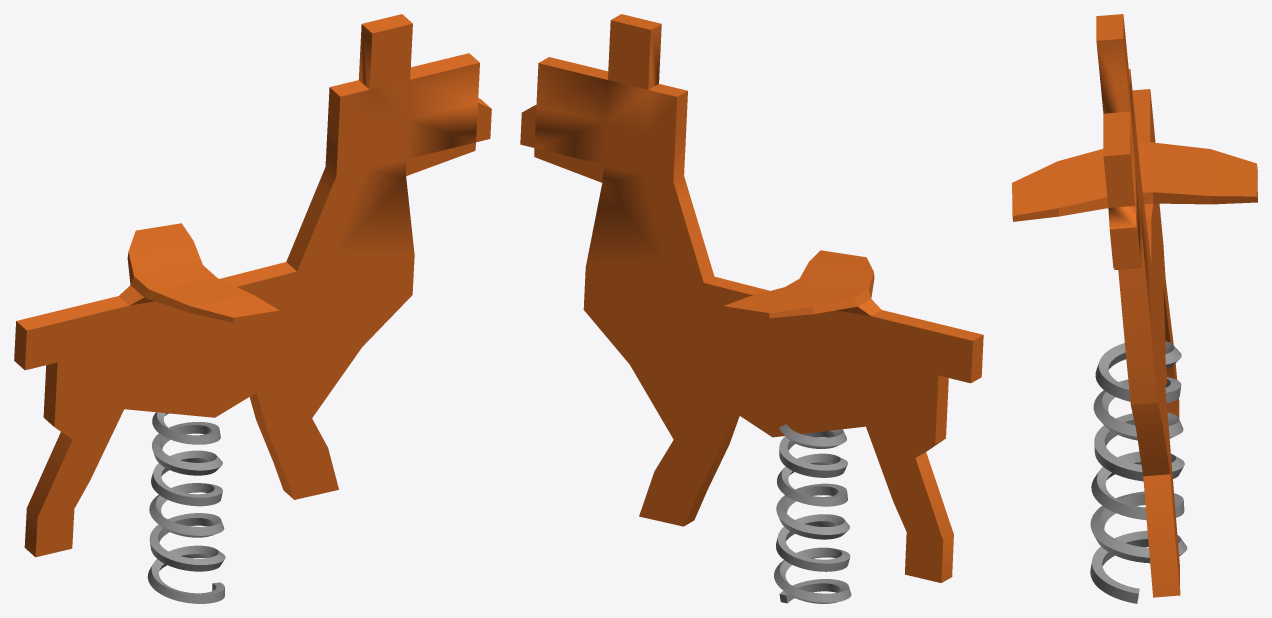
The model's file is MOD_llamaabascule.FBX.
3 views of the same model, side by side, from view 1: azimuth 30°, elevation 25°; view 2: azimuth 150°, elevation 25°; view 3: azimuth 270°, elevation 25° (orthographic). The views are drawn at different scales.
Visible parts, largest first — view 1: Plane001; view 2: Plane001; view 3: Plane001.
Boxes of the visible parts, left/top/right/bottom form: Plane001: left=14, top=14, right=491, bottom=603; Plane001: left=520, top=14, right=983, bottom=603; Plane001: left=1012, top=14, right=1257, bottom=603.
Bounding box in the file's own units: 0.9781 × 1.1 × 0.3628.
